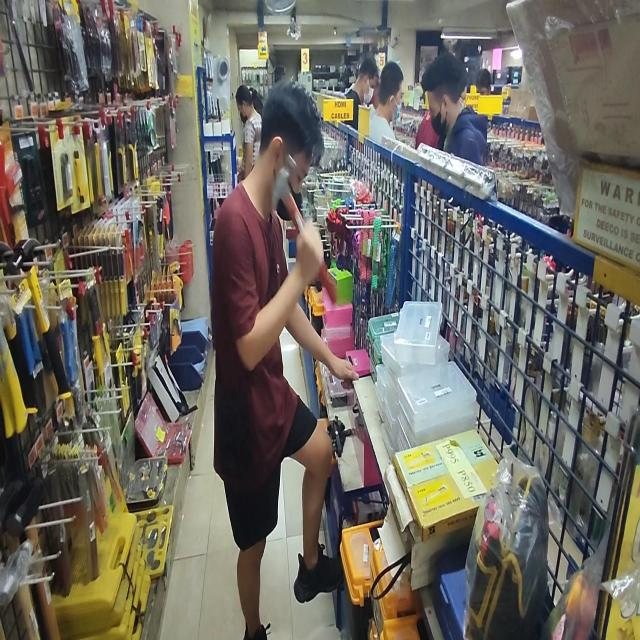hammer: (271, 154, 336, 304)
